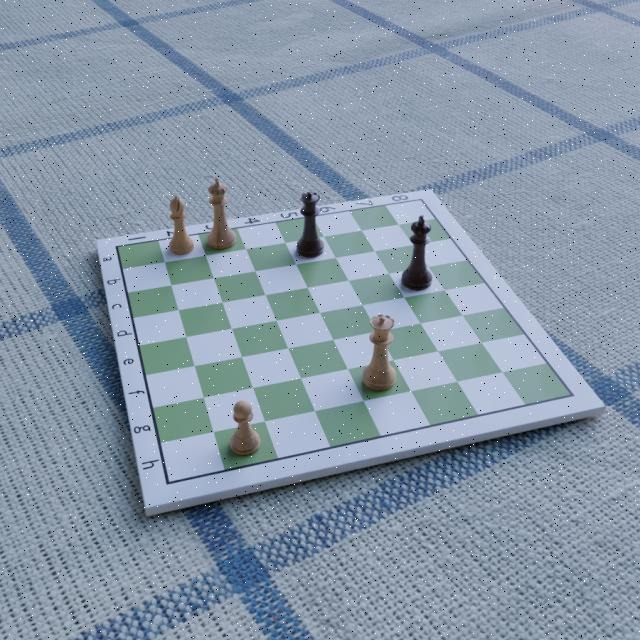black-king: (396, 214, 436, 293)
black-queen: (294, 190, 328, 262)
white-bishop: (166, 194, 196, 258)
white-king: (201, 177, 239, 251)
white-pawn: (225, 399, 263, 457)
white-queen: (360, 312, 400, 392)
